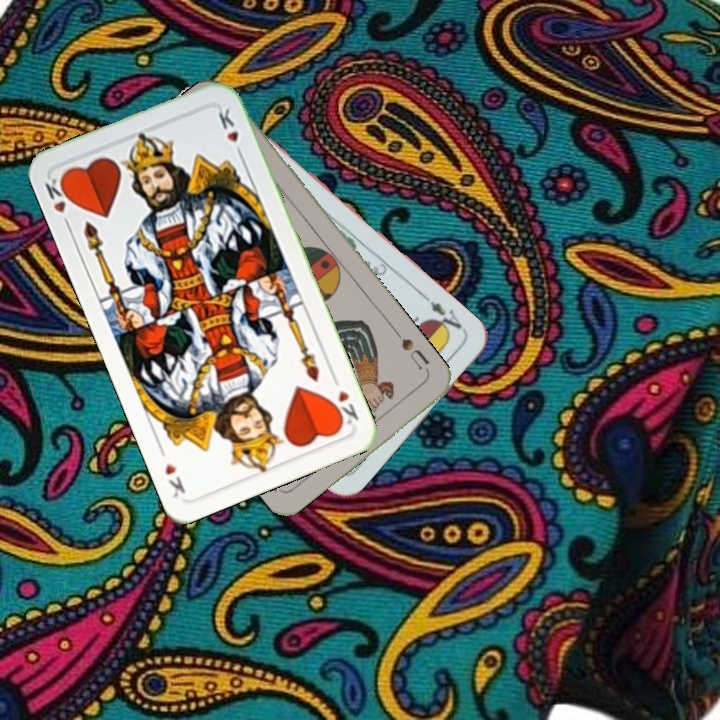EA: (419, 291, 468, 338)
HK: (327, 371, 361, 428), (41, 170, 76, 216)
SU: (397, 334, 433, 378)
